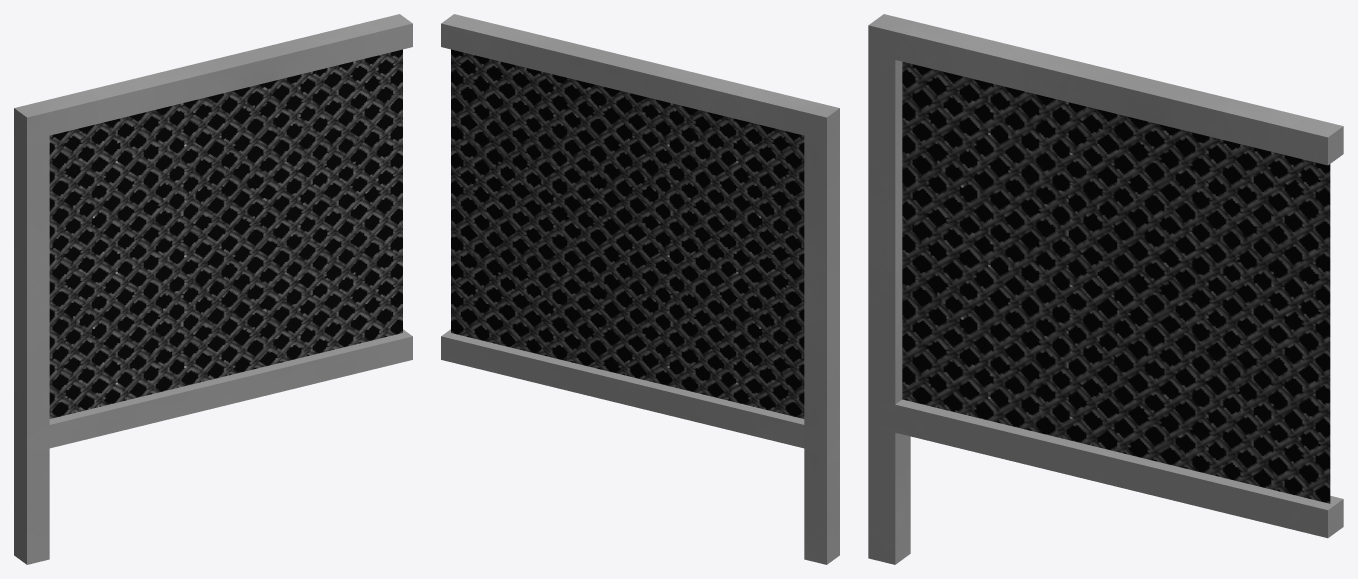
Rendered from fence-chainlink-2rail-1m-cbj_LOD00.gltf.
3 renders of one model, left to right at view 1: azimuth 30°, elevation 25°; view 2: azimuth 150°, elevation 25°; view 3: azimuth 330°, elevation 25°, orthographic. The views are drawn at different scales.
Visible parts, largest first — view 1: post; view 2: post; view 3: post.
Part boxes in pixels (left/top/right/bottom): post: left=14, top=14, right=412, bottom=564; post: left=441, top=14, right=839, bottom=564; post: left=868, top=14, right=1343, bottom=564.
Bounding box in the file's own units: 1.2 × 1.33 × 0.07.
